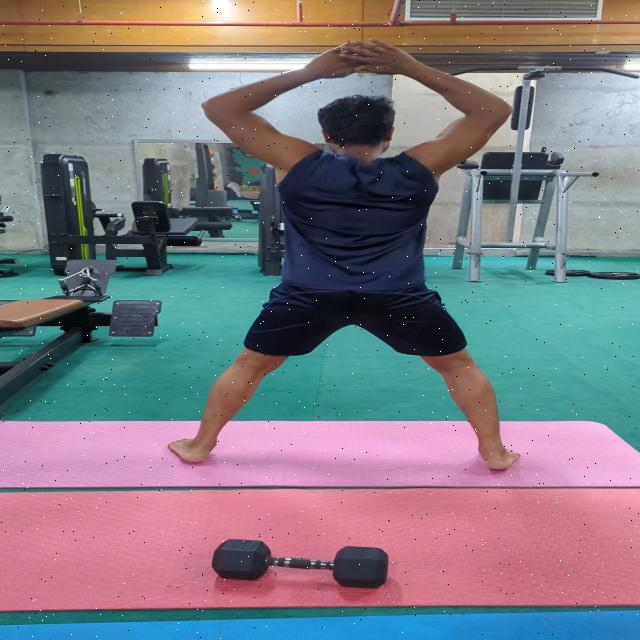Normal_JumpingJacks: (81, 28, 595, 491)
